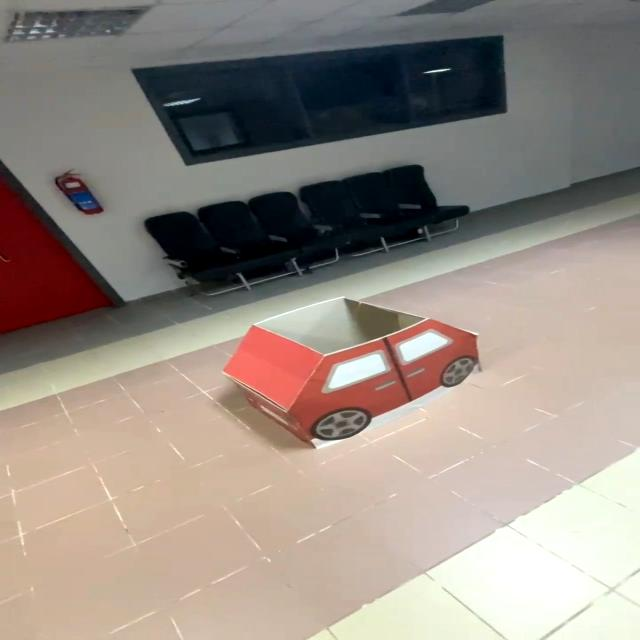red_car: (176, 286, 529, 461)
